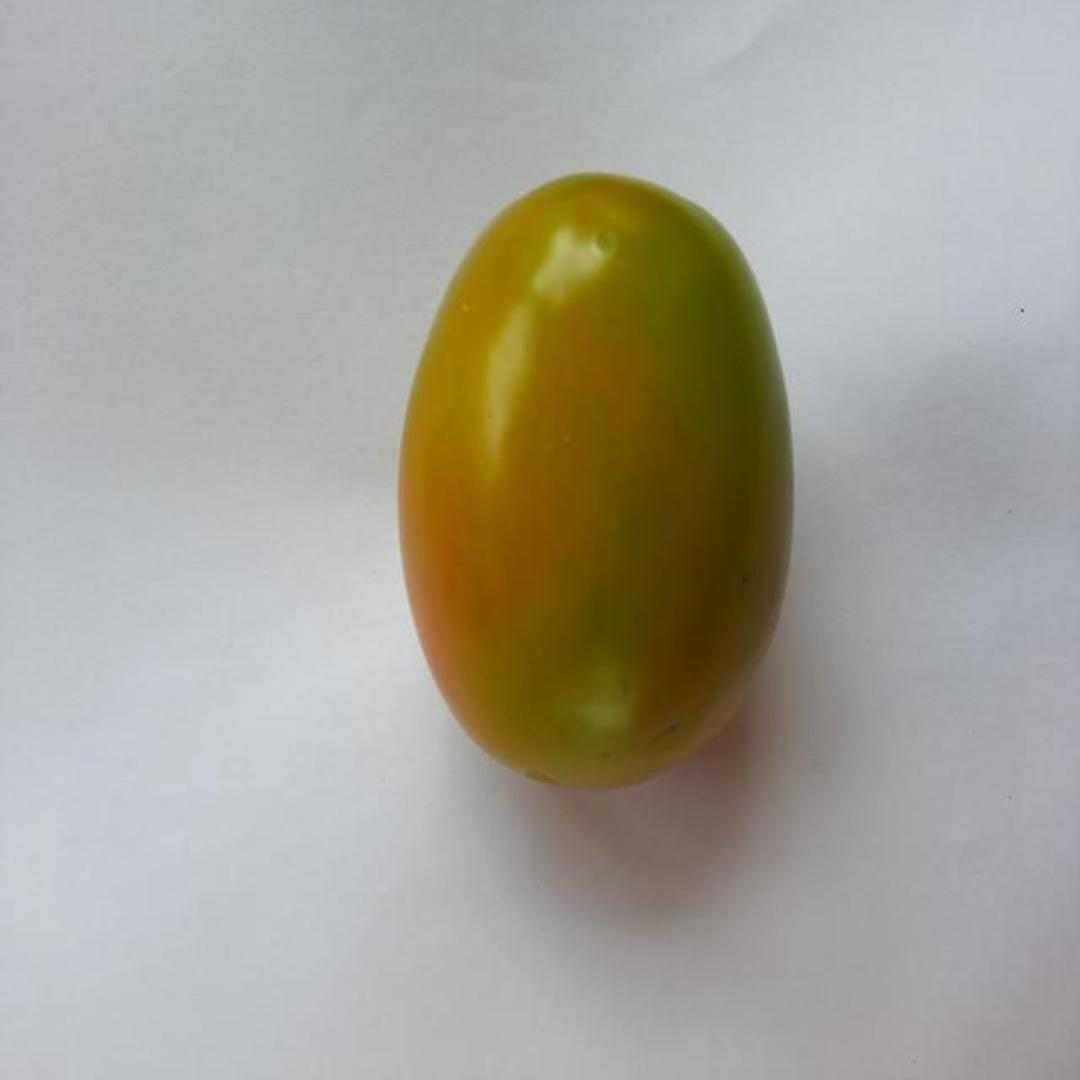setengah_matang: (390, 166, 800, 804)
